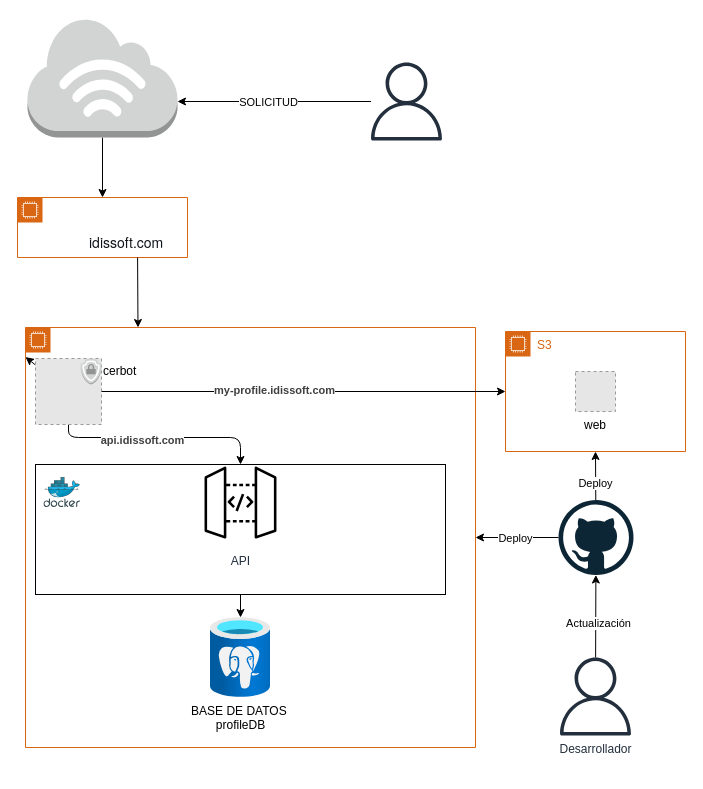
Some shapes in this 703 by 789 pixel diagram are drawn without their labels. Grey dashed boxes stand in for pictures. Each missing label, with the box of its shape:
EC2 instance contents: (24, 326, 476, 748)
Route 53: (16, 196, 188, 258)
usuario: (367, 62, 445, 140)
